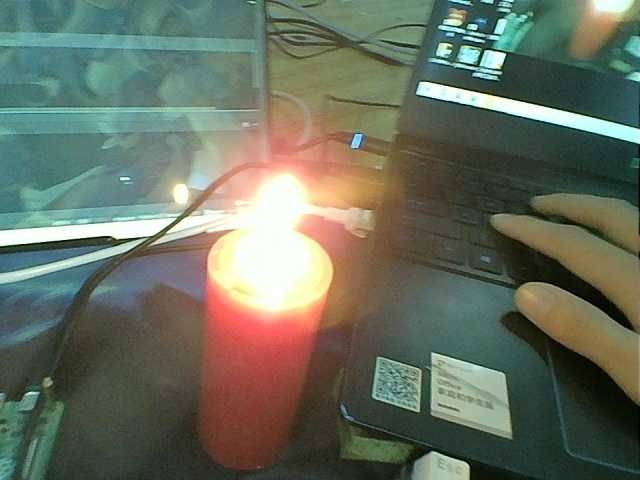candle: (205, 291, 304, 467), (586, 12, 604, 66)
fire: (244, 174, 308, 295), (168, 177, 193, 207), (603, 1, 631, 17)
